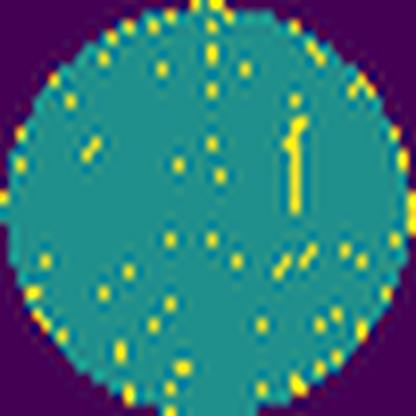Scratch: (276, 111, 316, 220)
